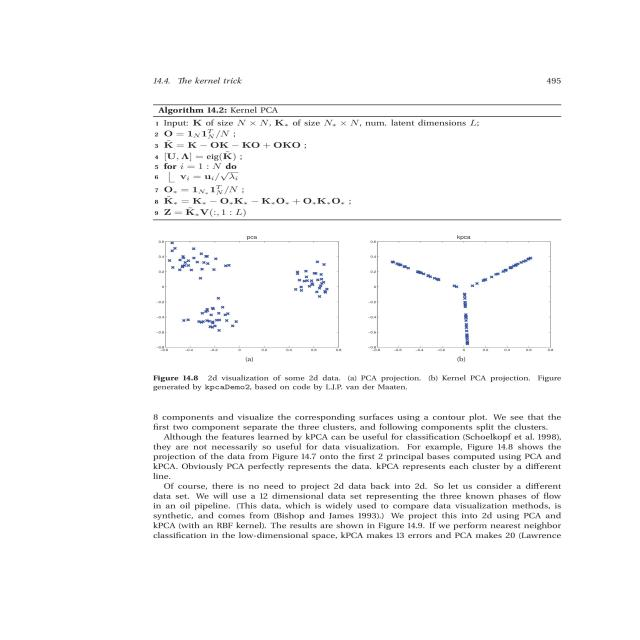diagram: (113, 221, 599, 400)
